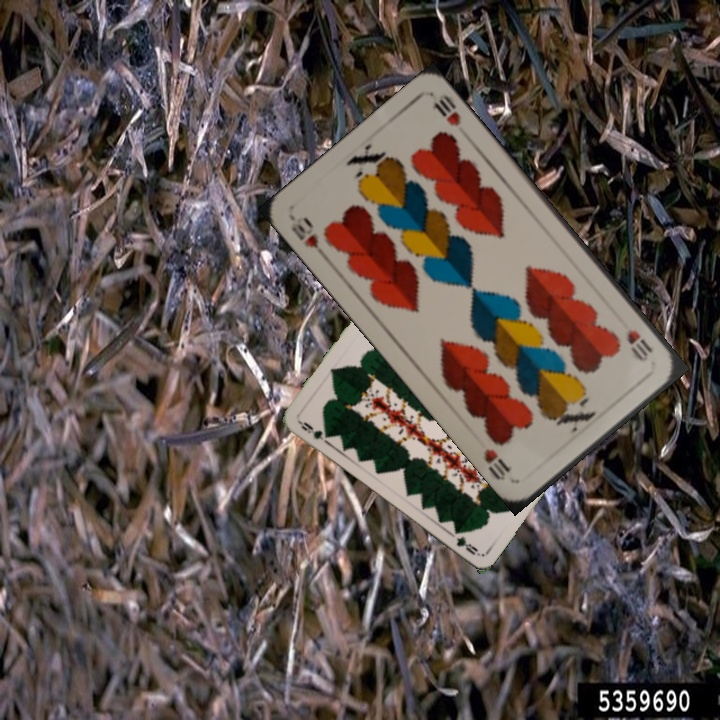G9: (294, 417, 332, 446)
H10: (287, 212, 321, 252), (623, 325, 656, 364)
